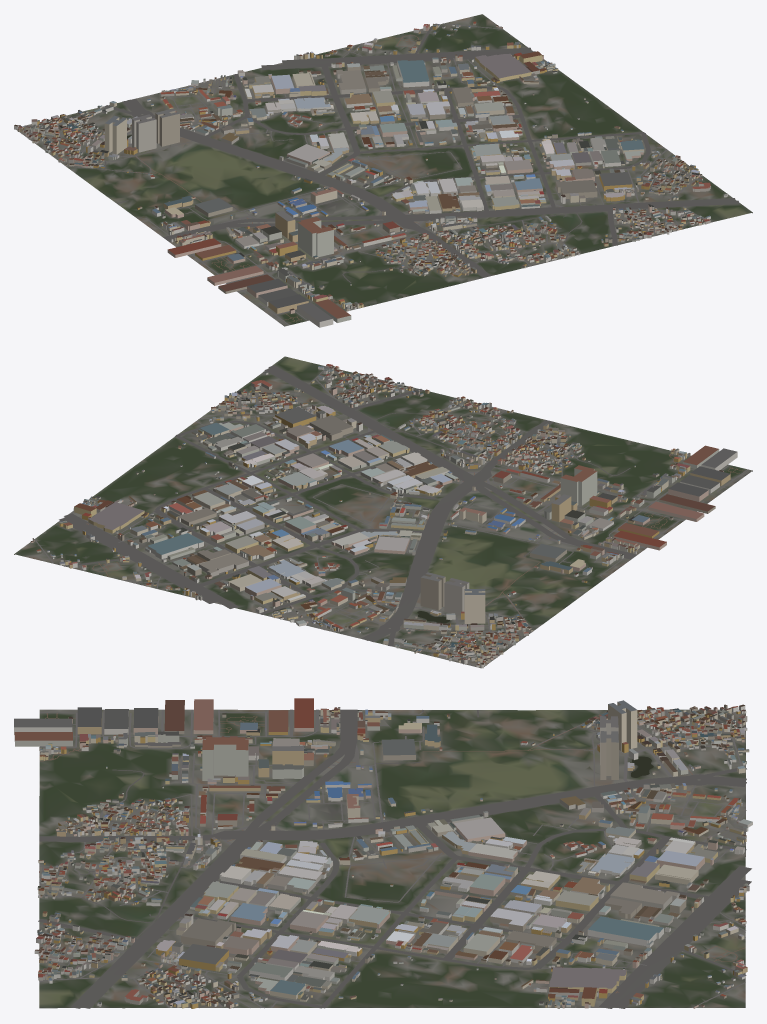
The picture shows the model from 3 angles, top to bottom: view 1: azimuth 30°, elevation 25°; view 2: azimuth 150°, elevation 25°; view 3: azimuth 270°, elevation 25°; orthographic projection. The views are drawn at different scales.
Visible parts, largest first — view 1: ground, buildings, roads; view 2: buildings, ground, roads; view 3: ground, buildings, roads.
Boxes of the visible parts, x1,y1,x2,y2 form: ground: [16, 14, 752, 326]; buildings: [14, 21, 727, 327]; roads: [21, 23, 739, 325]; buildings: [30, 364, 737, 668]; ground: [14, 356, 752, 668]; roads: [34, 365, 748, 665]; ground: [39, 709, 745, 1008]; buildings: [14, 698, 752, 1008]; roads: [38, 709, 751, 1008].
Bounding box in the file's own units: 1441 × 85.68 × 1466.
